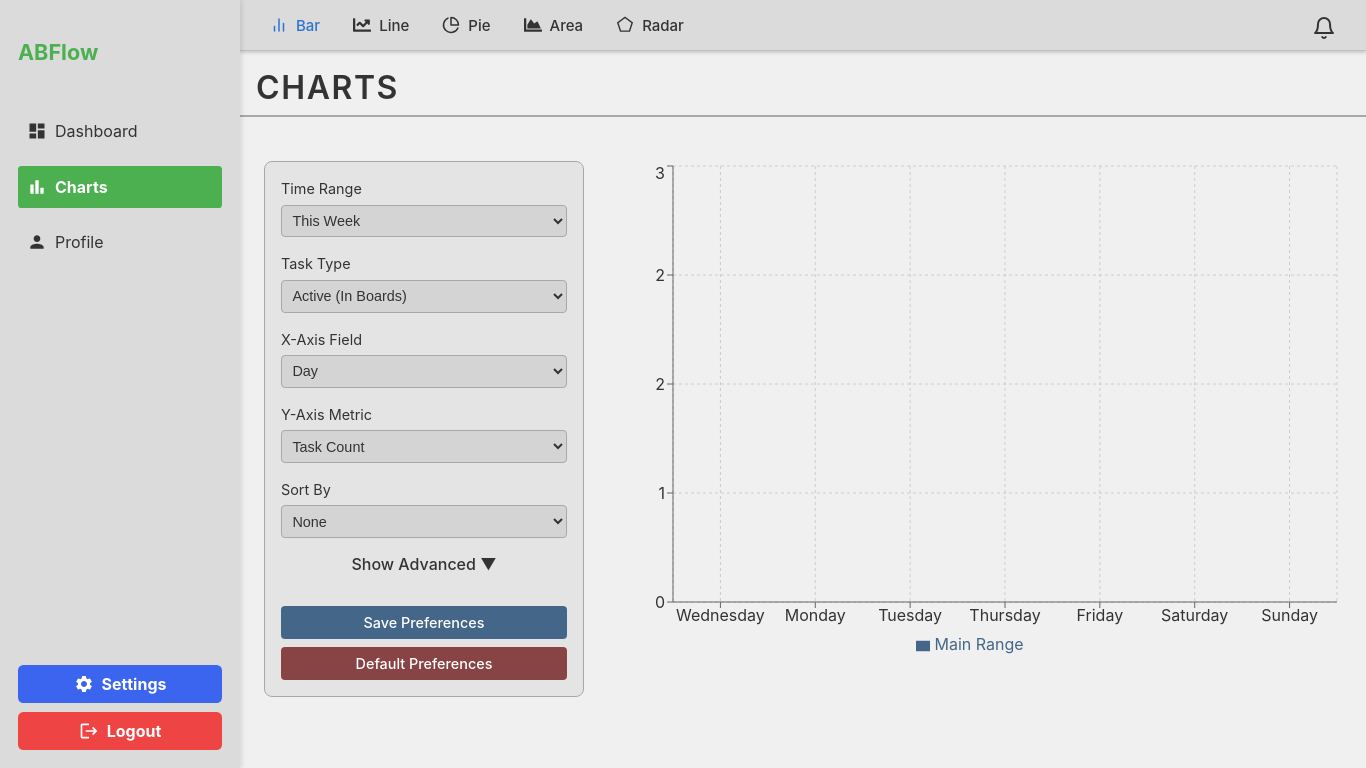
Charts Component Unit Tests › Day of the Week MultiSelect filter
Click the button "Show Advanced ▼". click: click(424, 564)
box: [281,554,567,574]
(page scrolled)
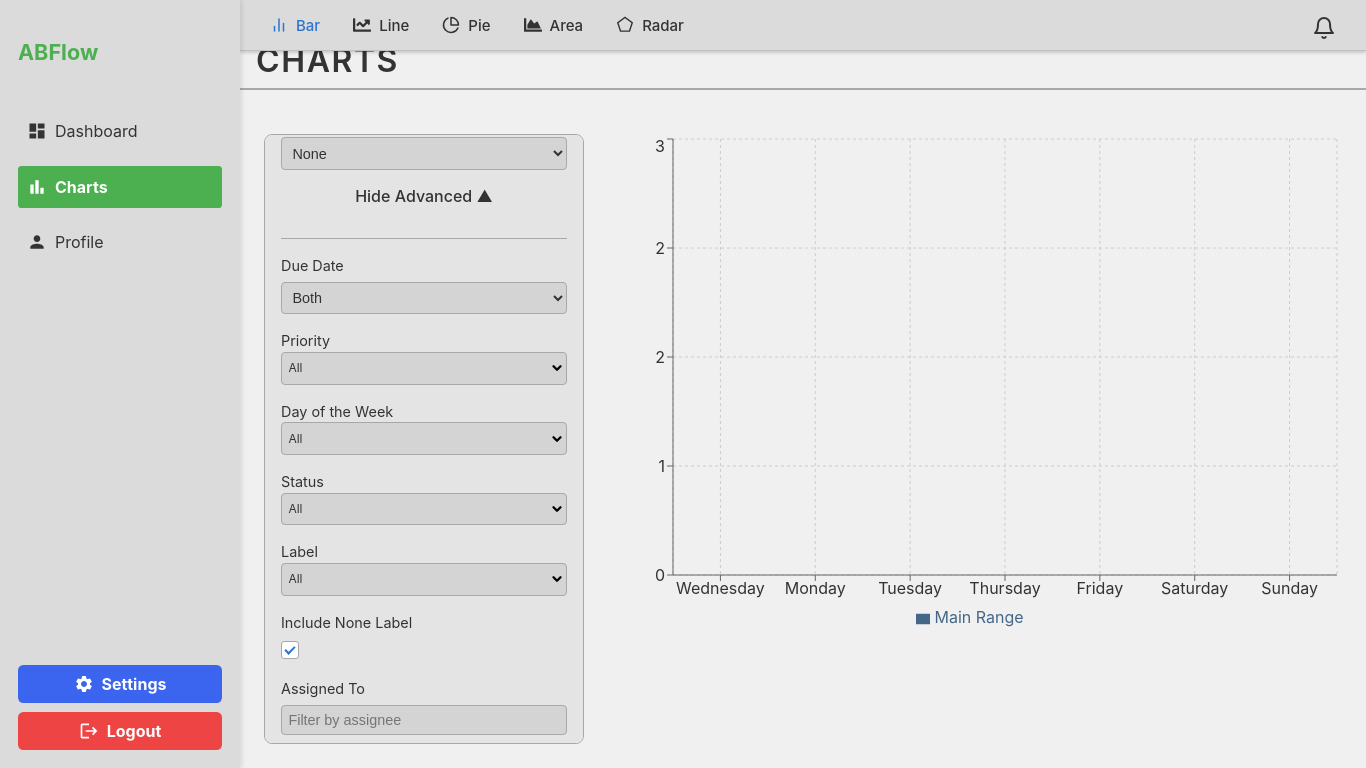
Click the element with class "dropdown-header" below "Day of the Week". click: click(424, 439)
box: [281,422,567,455]
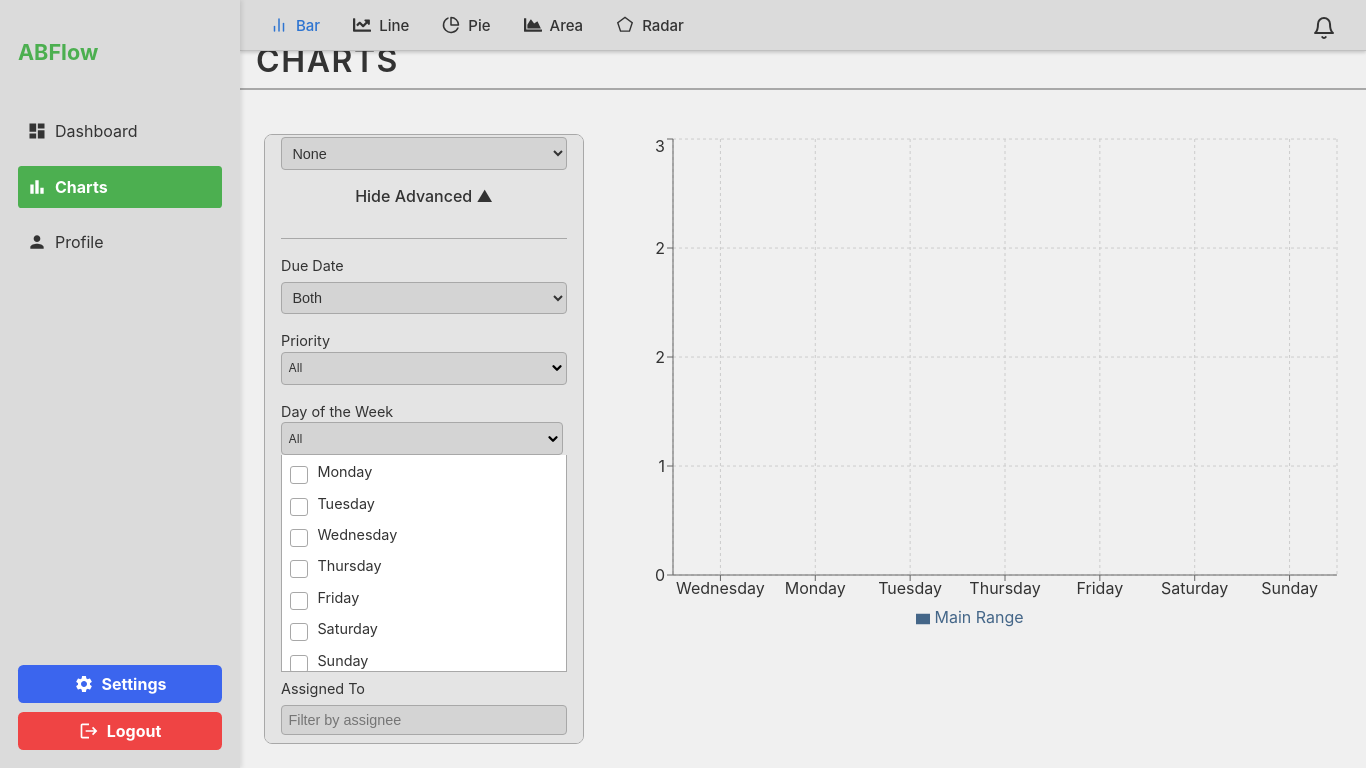
Click the checkbox labelled "Monday". click: click(299, 475)
box: [290,466,308,484]
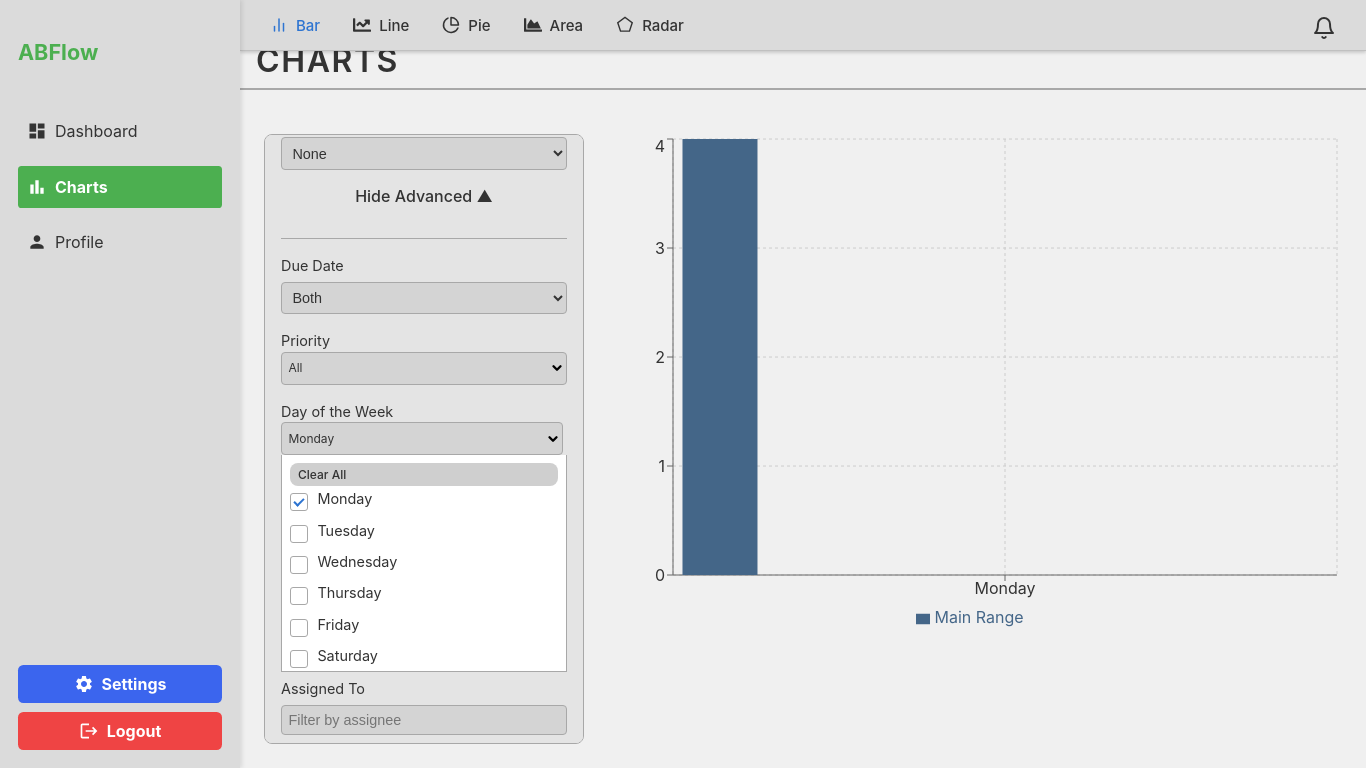
expect the 1st element with class "dropdown-header" reads "Monday": met, box [288,431,334,446]
Click the checkbox labelled "Monday". click: click(299, 502)
box: [290,493,308,511]
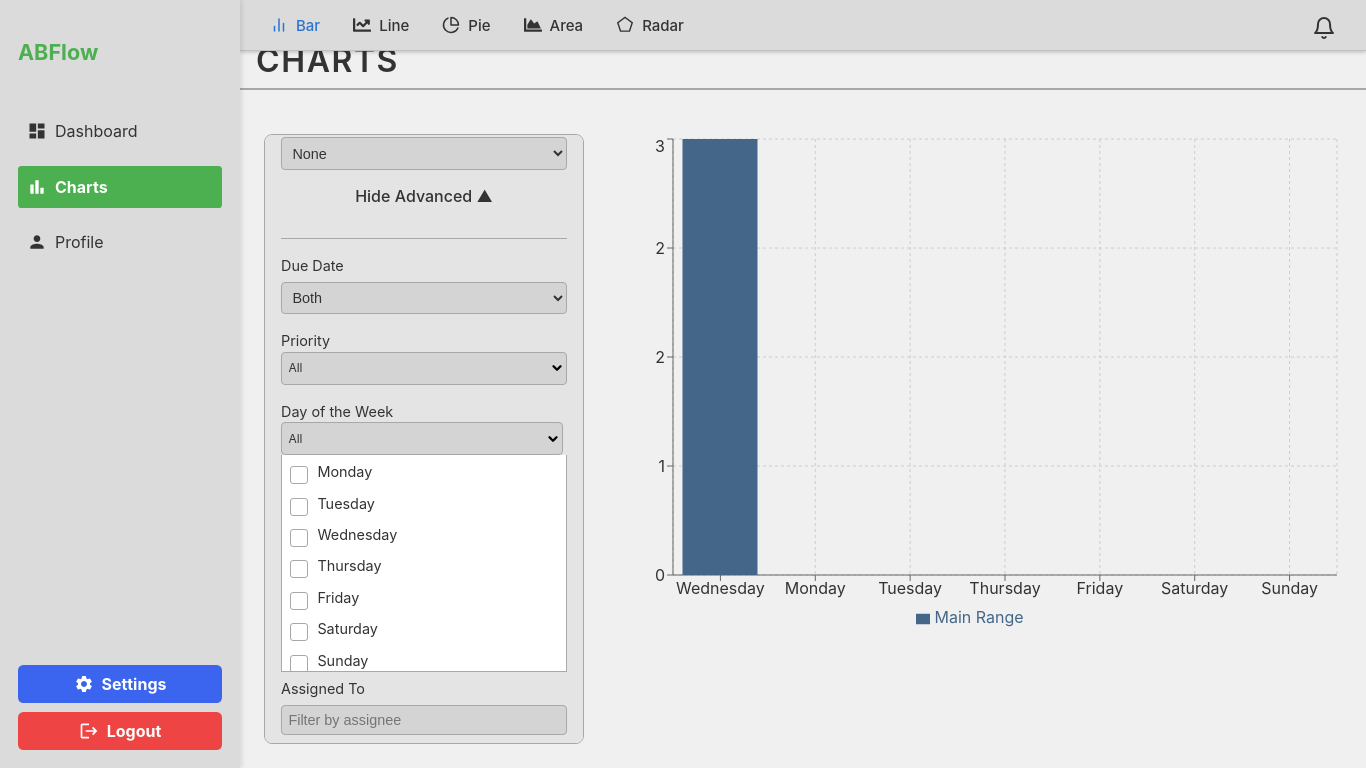
expect the element with class "dropdown-header" below "Day of the Week" reads "All": met, box [288,431,302,446]
